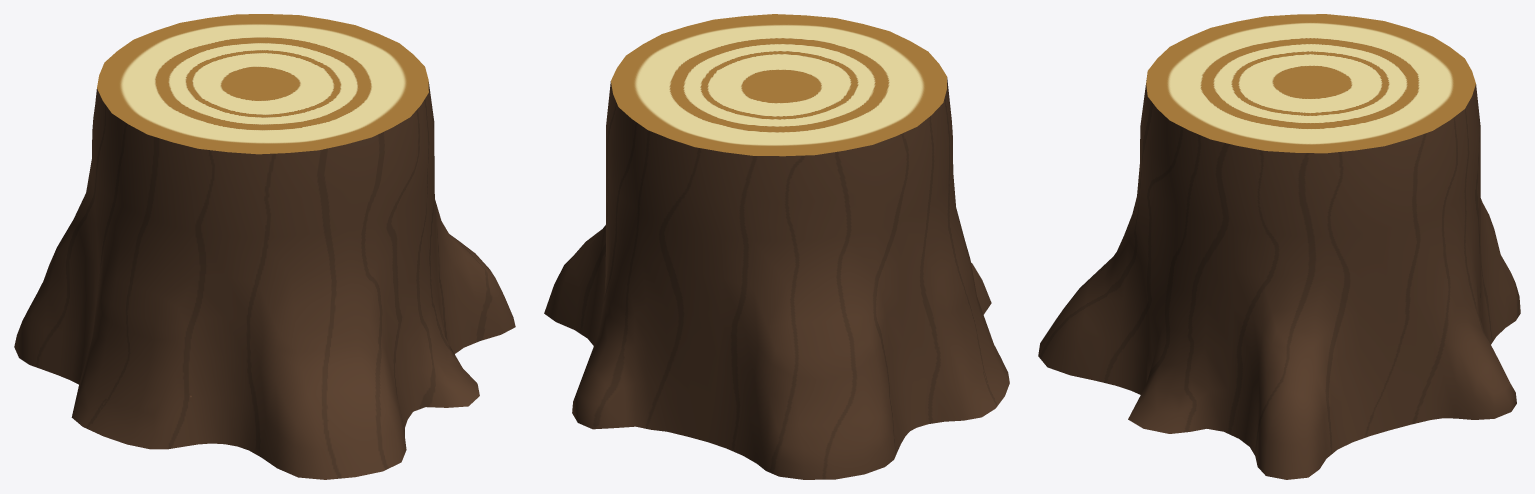
File: TreeStump.fbx
The picture shows the model from 3 angles, left to right: view 1: azimuth 30°, elevation 25°; view 2: azimuth 150°, elevation 25°; view 3: azimuth 270°, elevation 25°; orthographic projection. The views are drawn at different scales.
Parts seen in each view (by area): view 1: Tree Stump; view 2: Tree Stump; view 3: Tree Stump.
Part boxes in pixels (x1,y1,x2,y2): Tree Stump: (14, 14, 515, 479); Tree Stump: (544, 14, 1009, 479); Tree Stump: (1038, 14, 1520, 479).
Size of the model in its own units: 287 by 178 by 277.
Materials: 1 (1 with a texture image).
